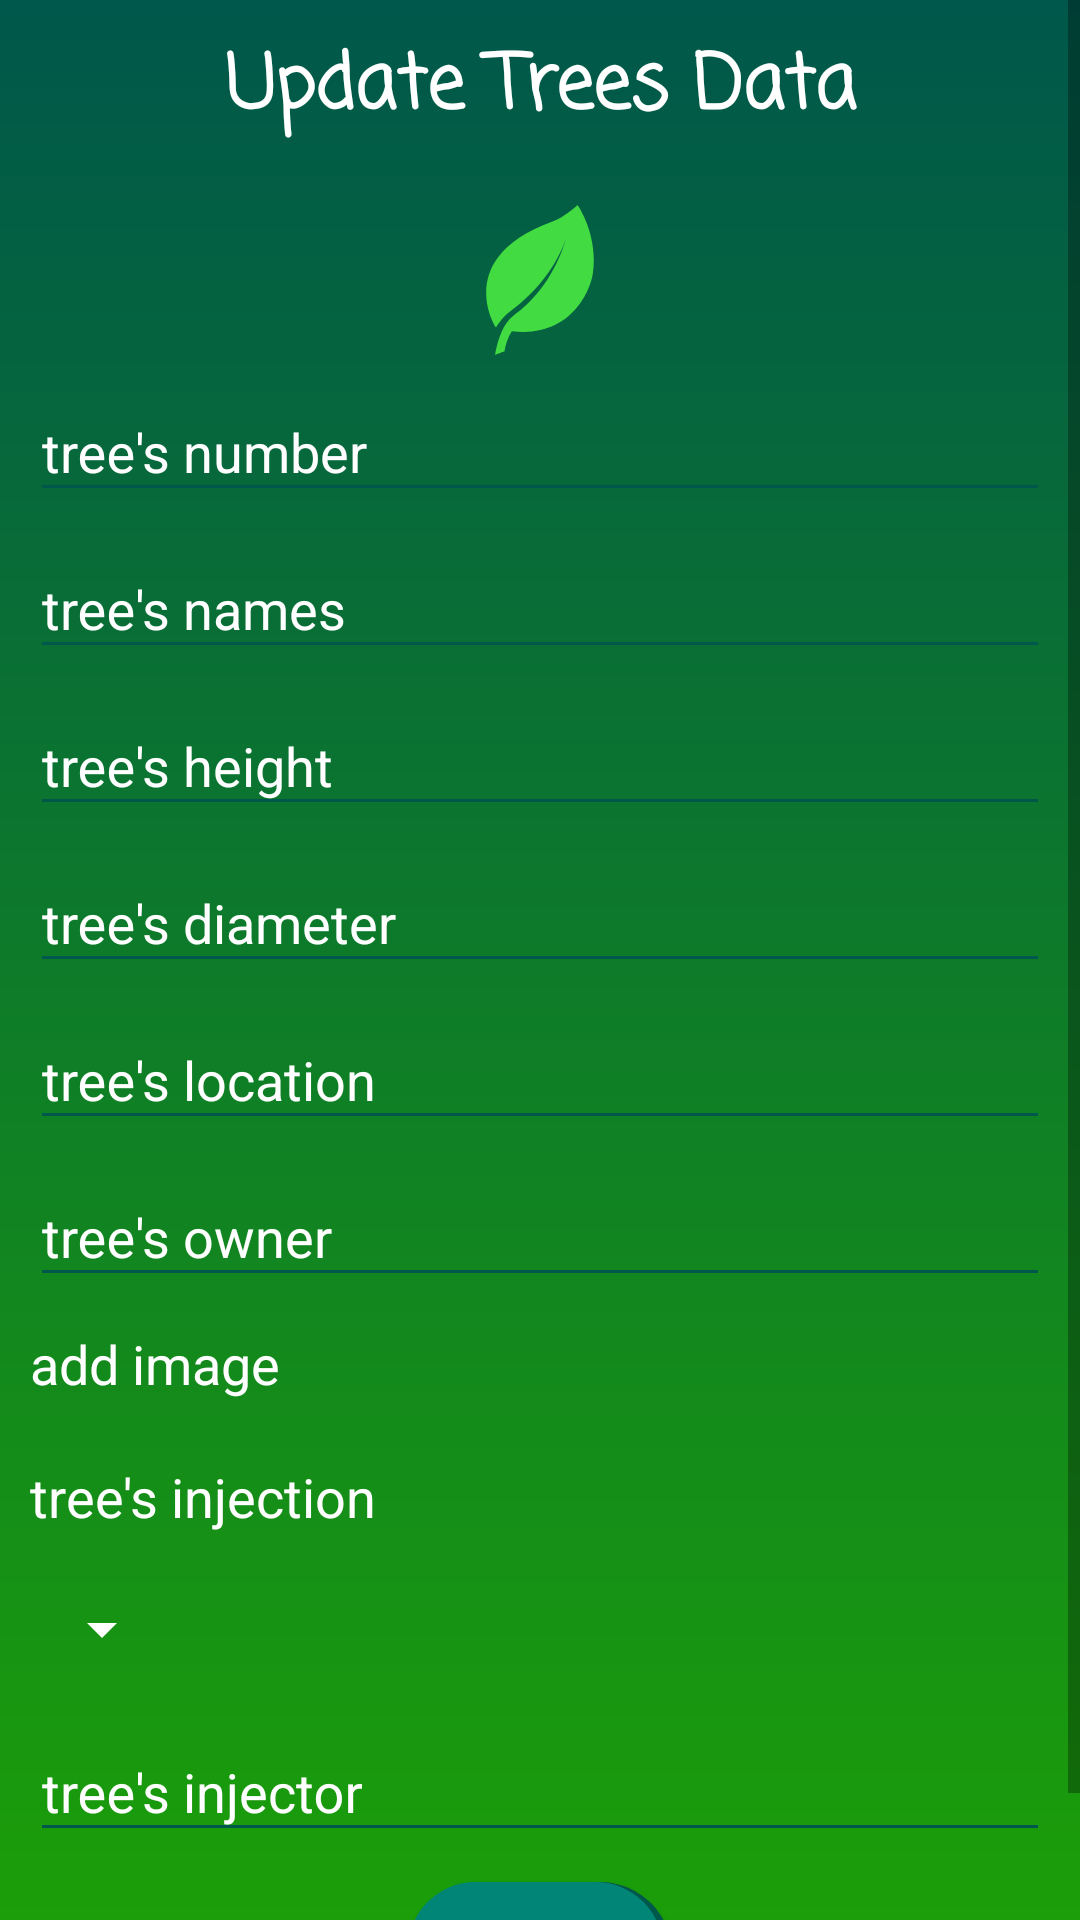

Screen size 1080 x 1920. Icon name, then its box in pixels as (x1, y1, x2, y2):
leaf: (486, 205, 594, 355)
